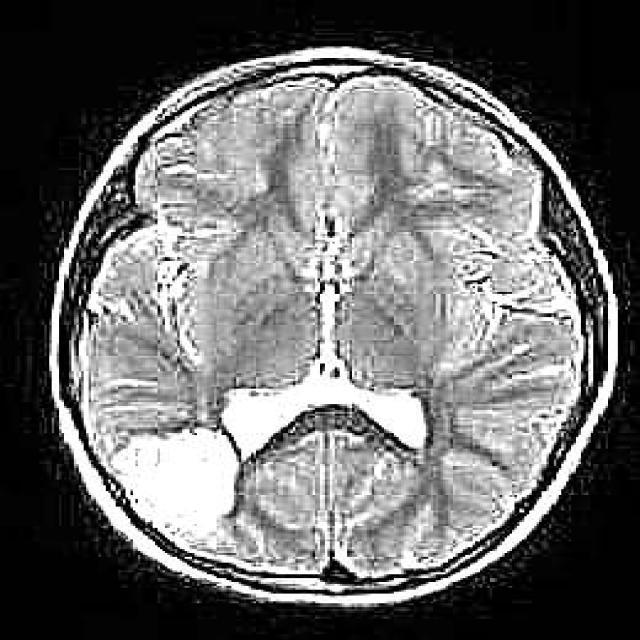Tumor: (100, 423, 243, 540)
